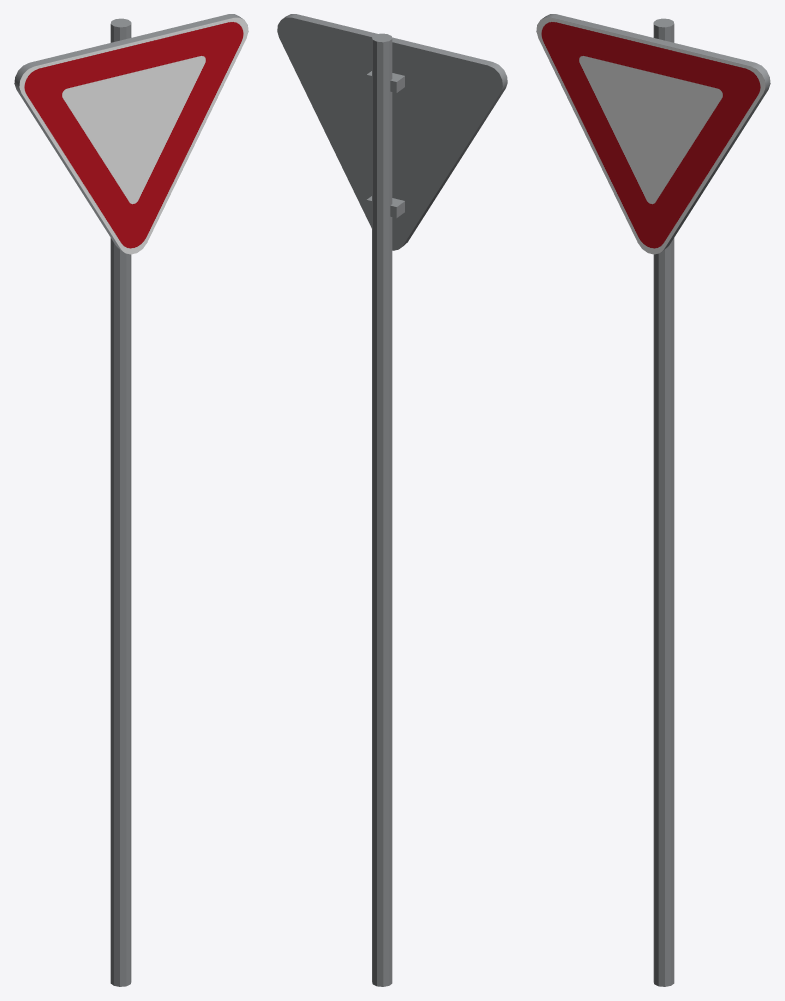
The model's file is sign-yield.glb.
3 views of the same model, side by side, from view 1: azimuth 30°, elevation 25°; view 2: azimuth 150°, elevation 25°; view 3: azimuth 330°, elevation 25° (orthographic).
Visible parts, largest first — view 1: sign-yield; view 2: sign-yield; view 3: sign-yield.
Boxes of the visible parts, x1,y1,x2,y2 form: sign-yield: (14, 14, 248, 986); sign-yield: (277, 14, 507, 986); sign-yield: (536, 14, 770, 986).
Bounding box in the file's own units: 0.7474 × 2.99 × 0.103.
Materials: 1 (1 with a texture image).
